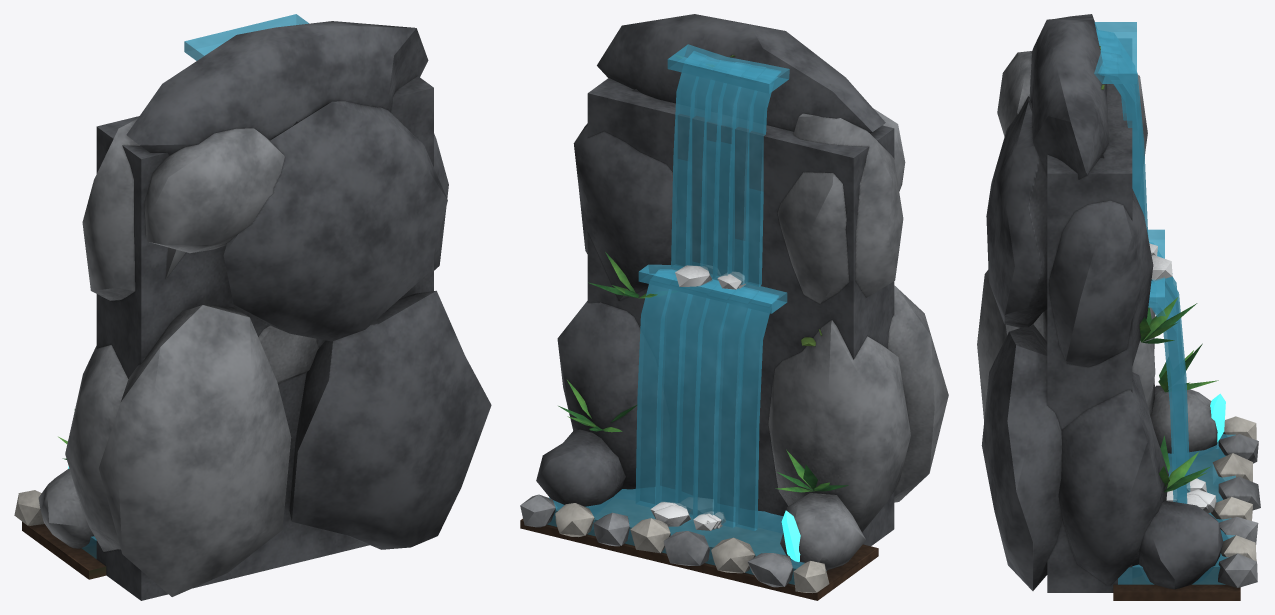
The model's file is cascada_pequena.fbx.
3 views of the same model, side by side, from view 1: azimuth 30°, elevation 25°; view 2: azimuth 150°, elevation 25°; view 3: azimuth 270°, elevation 25° (orthographic). The views are drawn at different scales.
Parts seen in each view (by area): view 1: cascada_pequena, cascada_pequena_agua; view 2: cascada_pequena, cascada_pequena_agua, cascada_pequena_espuma, cascada_pequena_neon; view 3: cascada_pequena, cascada_pequena_agua, cascada_pequena_espuma, cascada_pequena_neon.
Boxes of the visible parts, <box> form: cascada_pequena: <box>14,21,491,600</box>; cascada_pequena_agua: <box>82,14,308,558</box>; cascada_pequena: <box>520,14,948,600</box>; cascada_pequena_agua: <box>547,44,826,584</box>; cascada_pequena_espuma: <box>650,265,745,530</box>; cascada_pequena_neon: <box>781,510,800,561</box>; cascada_pequena: <box>977,14,1260,600</box>; cascada_pequena_agua: <box>1094,22,1235,584</box>; cascada_pequena_espuma: <box>1149,243,1216,513</box>; cascada_pequena_neon: <box>1210,393,1225,442</box>.
Bounding box in the file's own units: 4.38 × 5.87 × 3.01.
Materials: 3 (3 with a texture image).
